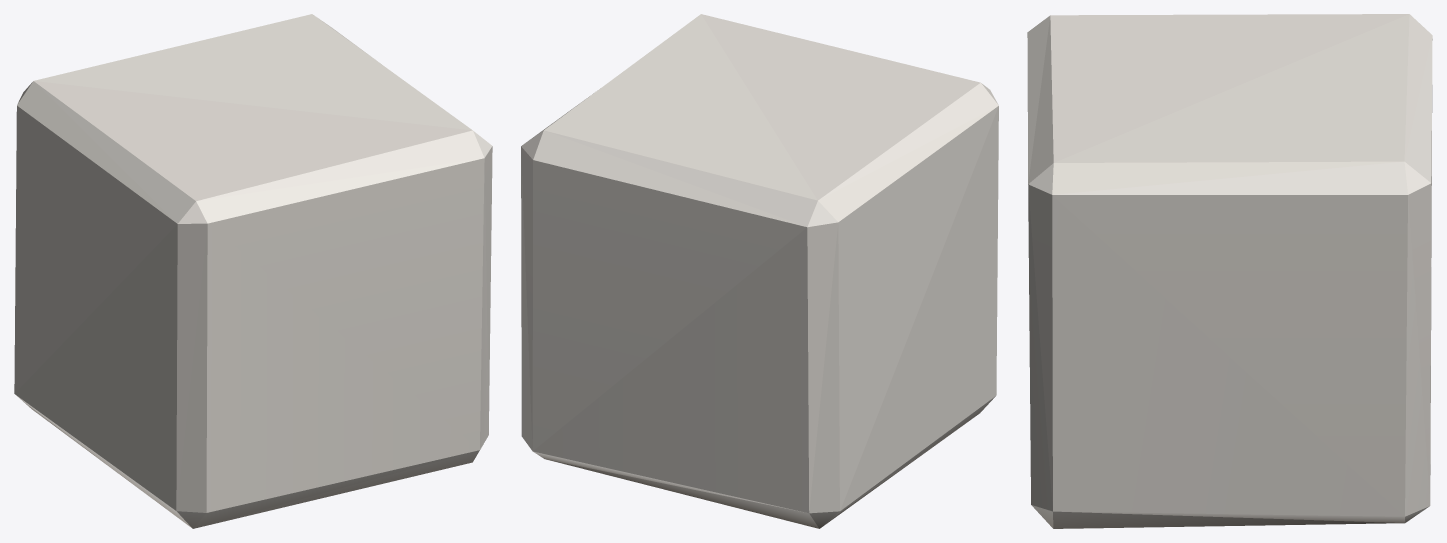
File: frost_plank.glb
3 renders of one model, left to right at view 1: azimuth 30°, elevation 25°; view 2: azimuth 150°, elevation 25°; view 3: azimuth 270°, elevation 25°, orthographic. The views are drawn at different scales.
Visible parts, largest first — view 1: ca_frost_plank; view 2: ca_frost_plank; view 3: ca_frost_plank.
Boxes of the visible parts, left/top/right/bottom form: ca_frost_plank: left=14, top=14, right=492, bottom=528; ca_frost_plank: left=521, top=14, right=998, bottom=528; ca_frost_plank: left=1027, top=14, right=1432, bottom=528.
Size of the model in its own units: 1.01 by 1.01 by 1.01.
1 material, 1 textured.
